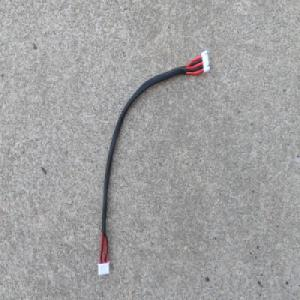Wire: (95, 48, 210, 278)
